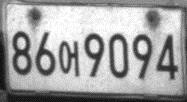0: (107, 32, 130, 78)
4: (155, 34, 177, 81)
6: (32, 32, 57, 75)
8: (11, 31, 33, 75)
9: (132, 32, 153, 81), (84, 32, 105, 77)
어: (59, 38, 80, 79)
